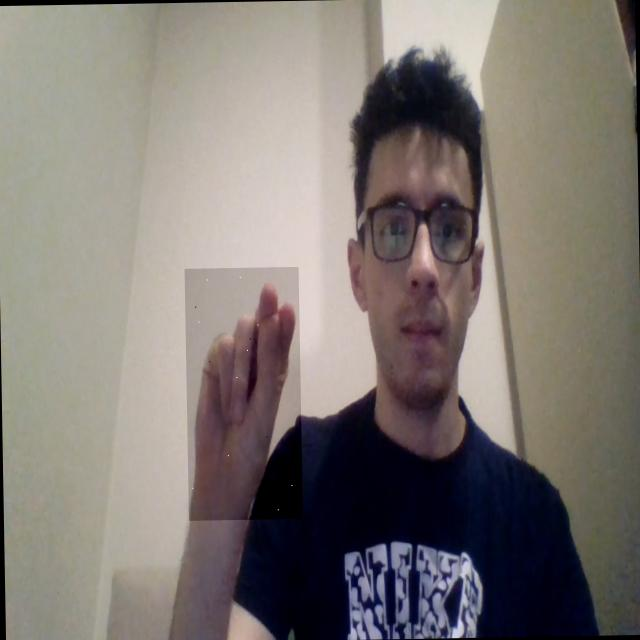no: (185, 266, 302, 520)
